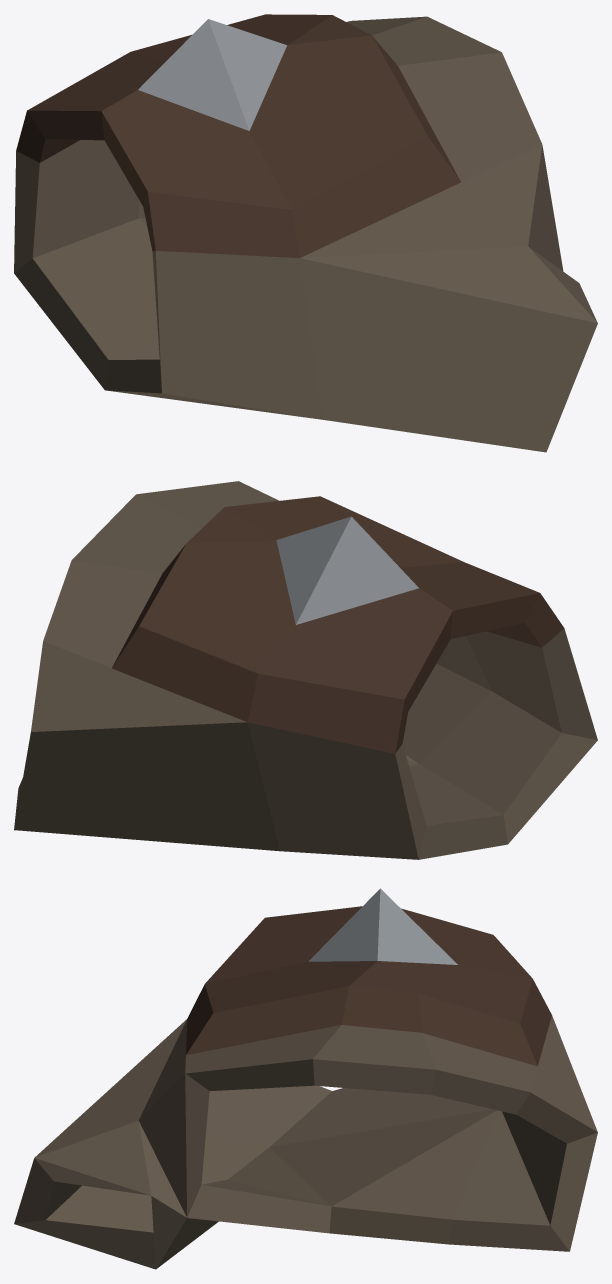
The model's file is Chr_HandLeft_Female_02_Drop.fbx.
The picture shows the model from 3 angles, top to bottom: view 1: azimuth 30°, elevation 25°; view 2: azimuth 150°, elevation 25°; view 3: azimuth 270°, elevation 25°; orthographic projection. The views are drawn at different scales.
Parts seen in each view (by area): view 1: Chr_HandLeft_Female_02_Static; view 2: Chr_HandLeft_Female_02_Static; view 3: Chr_HandLeft_Female_02_Static.
Boxes of the visible parts, x1,y1,x2,y2 form: Chr_HandLeft_Female_02_Static: (14,14,597,452); Chr_HandLeft_Female_02_Static: (14,481,597,859); Chr_HandLeft_Female_02_Static: (14,888,597,1269).
Size of the model in its own units: 1158 by 956 by 1600.
